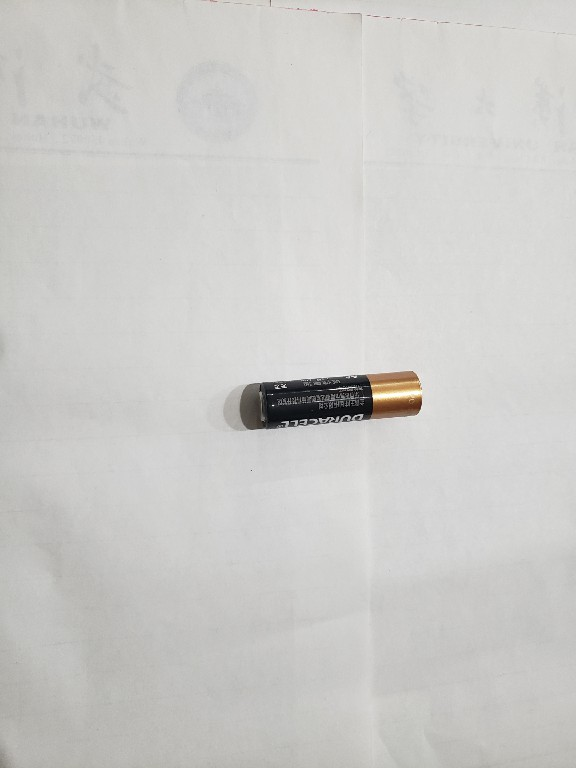charge: (254, 365, 428, 434)
